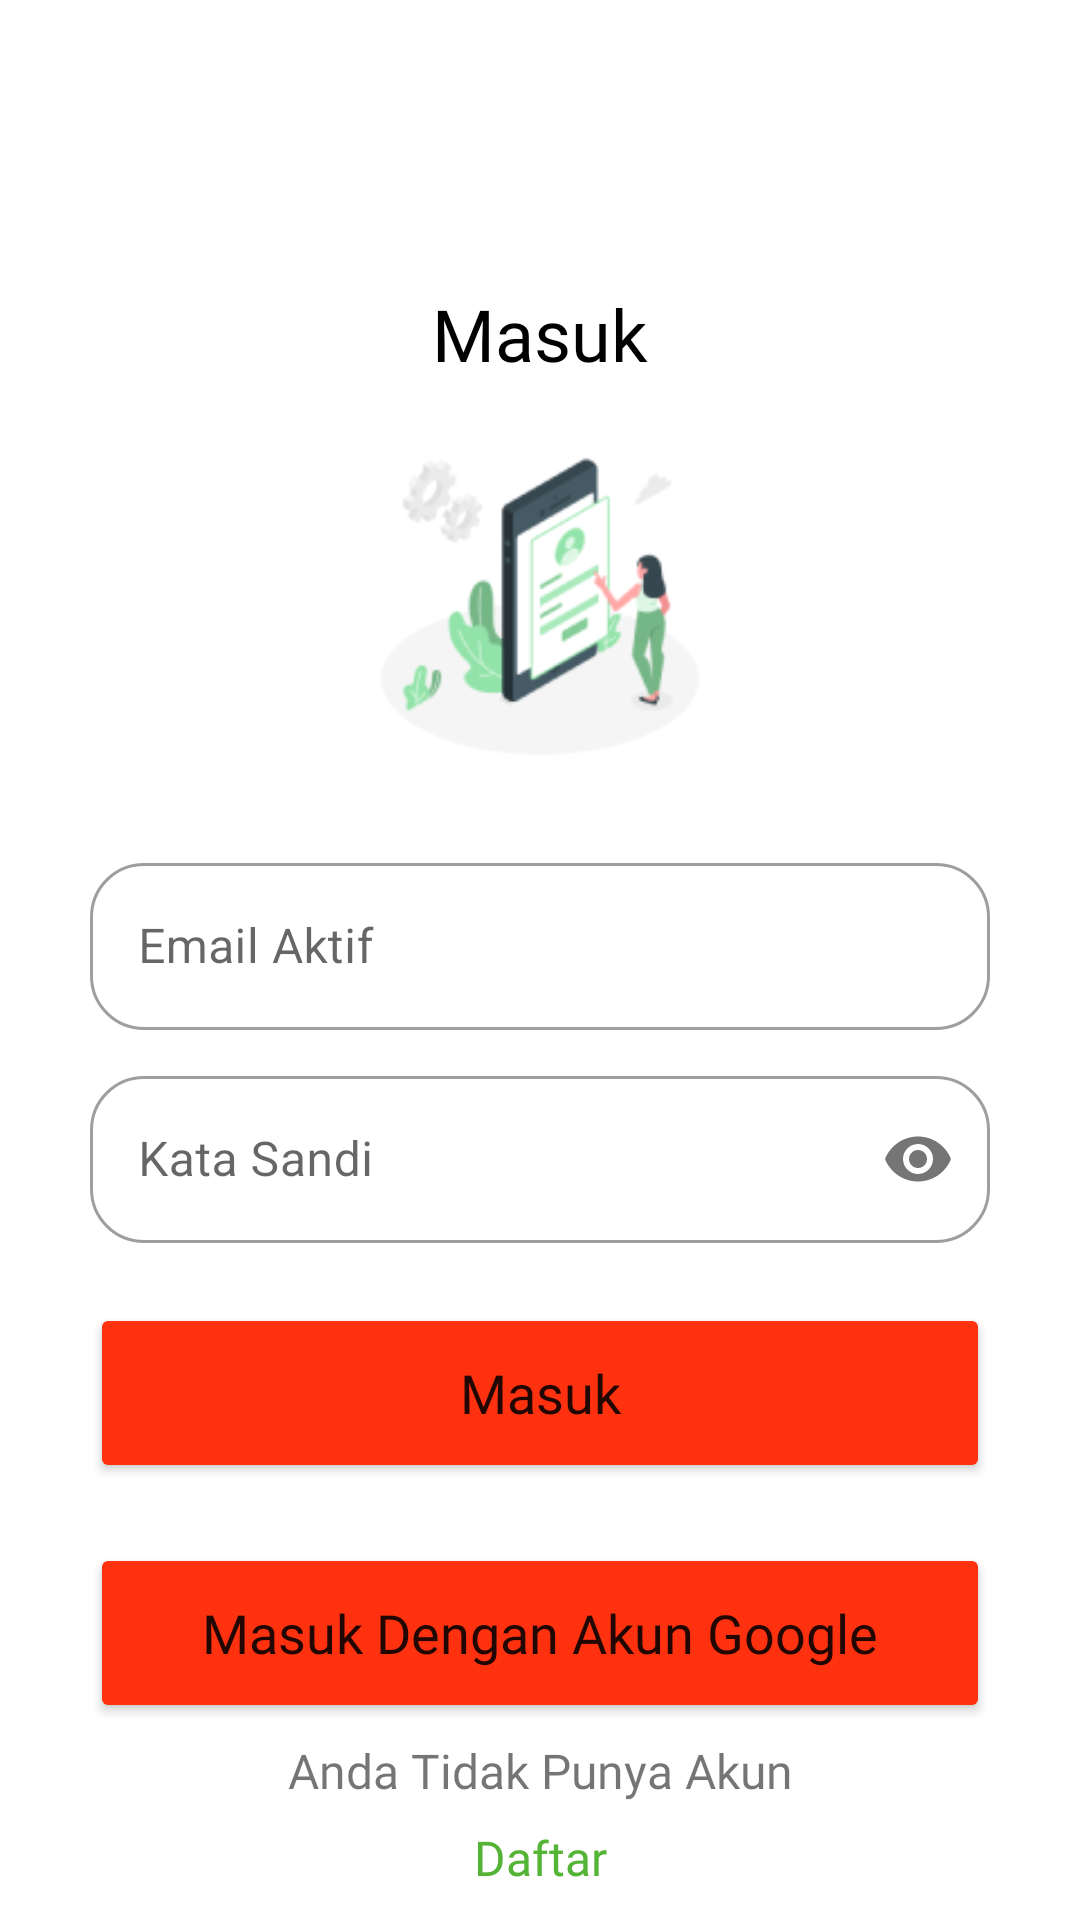

Icons on this 1080×1920 Android screen, each with its box as (left=x1, top=y1, right=x2, bottom=y2):
mobile login amico: (left=402, top=458, right=671, bottom=711)
